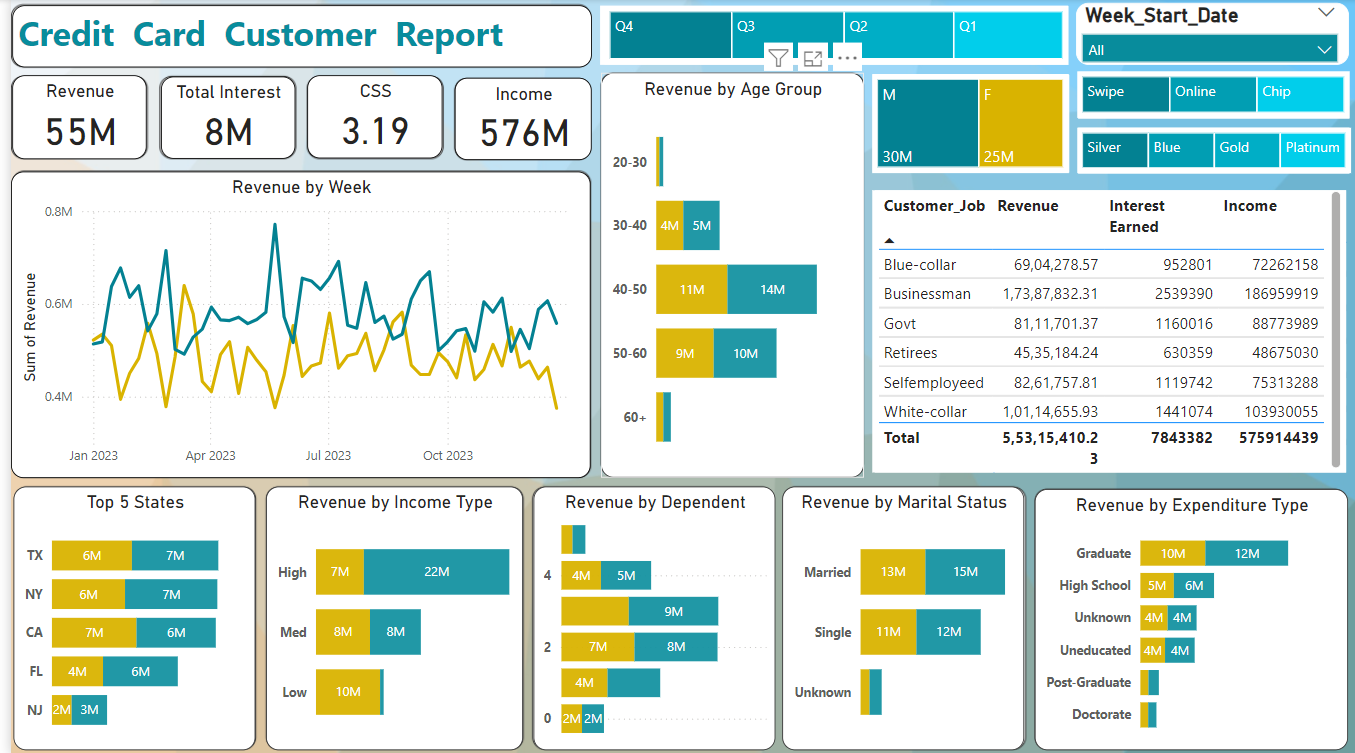

This screenshot's page, from the dashboard's own definition file:
{"tool":"powerbi","page":{"name":"CC Customer","canvas":[1280,720],"ordinal":2},"visuals":[{"type":"textbox","box":[0.9,6,552,59],"z":0},{"type":"barChart","title":"Revenue by Income Type","fields":{"Y":["Sum(Processed_Credit_Card_Data.Revenue)"],"Category":["customer.IncomeGroup"],"Series":["customer.Gender"]},"box":[243.4,464.6,245,251.1],"z":1000},{"type":"tableEx","fields":{"Values":["customer.Customer_Job","Sum(Processed_Credit_Card_Data.Revenue)","Sum(Processed_Credit_Card_Data.Interest_Earned)","Sum(customer.Income)"]},"box":[820.6,182.4,451,269],"z":2000},{"type":"card","title":"Revenue","fields":{"Values":["Sum(Processed_Credit_Card_Data.Revenue)"]},"box":[0.9,72.9,127.7,79.7],"z":3000},{"type":"card","title":"Delinquent %","fields":{"Values":["Processed_Credit_Card_Data.Delinquent Percentage"]},"box":[422.6,74.6,130.3,78],"z":4000},{"type":"card","title":"Total Interest","fields":{"Values":["Sum(Processed_Credit_Card_Data.Interest_Earned)"]},"box":[142.3,73.7,127.7,78],"z":5000},{"type":"card","title":"CSS","fields":{"Values":["Avg(customer.Cust_Satisfaction_Score)"]},"box":[282,73,128.6,79],"z":6000},{"type":"slicer","fields":{"Values":["Processed_Credit_Card_Data.Week_Start_Date"]},"box":[1014.7,4.1,260,58.8],"z":7000},{"type":"treemap","fields":{"Group":["Processed_Credit_Card_Data.Qtr"],"Values":["Avg(Processed_Credit_Card_Data.Client_Num)"]},"box":[565.6,7.5,441.2,55],"z":8000},{"type":"treemap","fields":{"Values":["Avg(Processed_Credit_Card_Data.Client_Num)"],"Group":["Processed_Credit_Card_Data.Card_Category"]},"box":[1015.9,122.4,260.6,43.5],"z":9000},{"type":"lineChart","title":"Revenue by Week","fields":{"Y":["Sum(Processed_Credit_Card_Data.Revenue)"],"Series":["customer.Gender"],"Category":["Processed_Credit_Card_Data.Week_Start_Date.Variation.Date Hierarchy.Year","Processed_Credit_Card_Data.Week_Start_Date.Variation.Date Hierarchy.Quarter","Processed_Credit_Card_Data.Week_Start_Date.Variation.Date Hierarchy.Month","Processed_Credit_Card_Data.Week_Start_Date.Variation.Date Hierarchy.Day"]},"box":[0,163.7,552,292],"z":10000},{"type":"treemap","fields":{"Group":["customer.Gender"],"Values":["Sum(Processed_Credit_Card_Data.Revenue)"]},"box":[820.6,71.8,187,94],"z":11000},{"type":"barChart","title":"Revenue by Age Group","fields":{"Y":["Sum(Processed_Credit_Card_Data.Revenue)"],"Category":["customer.AgeGroup"],"Series":["customer.Gender"]},"box":[561.4,70.3,250,385.7],"z":12000},{"type":"barChart","title":"Revenue by Dependent","fields":{"Y":["Sum(Processed_Credit_Card_Data.Revenue)"],"Category":["customer.Dependent_Count"],"Series":["customer.Gender"]},"box":[497.1,464.6,230.6,251.1],"z":13000},{"type":"barChart","title":"Revenue by Expenditure Type","fields":{"Y":["Sum(Processed_Credit_Card_Data.Revenue)"],"Category":["customer.Education_Level"],"Series":["customer.Gender"]},"box":[975.4,467.1,298.3,248.6],"z":14000},{"type":"barChart","title":"Top 5 States","fields":{"Y":["Sum(Processed_Credit_Card_Data.Revenue)"],"Category":["customer.state_cd"],"Series":["customer.Gender"]},"box":[2.6,464.6,230.6,251.1],"z":15000},{"type":"barChart","title":"Revenue by Marital Status","fields":{"Y":["Sum(Processed_Credit_Card_Data.Revenue)"],"Category":["customer.Marital_Status"],"Series":["customer.Gender"]},"box":[734.6,464.6,230.6,251.1],"z":16000},{"type":"treemap","fields":{"Values":["Avg(Processed_Credit_Card_Data.Client_Num)"],"Group":["Processed_Credit_Card_Data.Use Chip"]},"box":[1015.9,69.4,259.4,44.1],"z":17000}]}

Visuals, with their boxes in screenshot pixels (x1, y1, x2, y2), scaled from the page's 1280x720 canvas onto the 1355x753 screenshot:
textbox: pyautogui.locateOnScreen(1, 6, 585, 68)
"Revenue by Income Type" barChart: pyautogui.locateOnScreen(258, 486, 517, 749)
tableEx - customer.Customer_Job x Sum(Processed_Credit_Card_Data.Revenue): pyautogui.locateOnScreen(869, 191, 1346, 472)
"Revenue" card: pyautogui.locateOnScreen(1, 76, 136, 160)
"Delinquent %" card: pyautogui.locateOnScreen(447, 78, 585, 160)
"Total Interest" card: pyautogui.locateOnScreen(151, 77, 286, 159)
"CSS" card: pyautogui.locateOnScreen(299, 76, 435, 159)
slicer - Processed_Credit_Card_Data.Week_Start_Date: pyautogui.locateOnScreen(1074, 4, 1349, 66)
treemap - Processed_Credit_Card_Data.Qtr x Avg(Processed_Credit_Card_Data.Client_Num): pyautogui.locateOnScreen(599, 8, 1066, 65)
treemap - Avg(Processed_Credit_Card_Data.Client_Num) x Processed_Credit_Card_Data.Card_Category: pyautogui.locateOnScreen(1075, 128, 1351, 174)
"Revenue by Week" lineChart: pyautogui.locateOnScreen(0, 171, 584, 477)
treemap - customer.Gender x Sum(Processed_Credit_Card_Data.Revenue): pyautogui.locateOnScreen(869, 75, 1067, 173)
"Revenue by Age Group" barChart: pyautogui.locateOnScreen(594, 74, 859, 477)
"Revenue by Dependent" barChart: pyautogui.locateOnScreen(526, 486, 770, 749)
"Revenue by Expenditure Type" barChart: pyautogui.locateOnScreen(1033, 489, 1348, 749)
"Top 5 States" barChart: pyautogui.locateOnScreen(3, 486, 247, 749)
"Revenue by Marital Status" barChart: pyautogui.locateOnScreen(778, 486, 1022, 749)
treemap - Avg(Processed_Credit_Card_Data.Client_Num) x Processed_Credit_Card_Data.Use Chip: pyautogui.locateOnScreen(1075, 73, 1350, 119)
